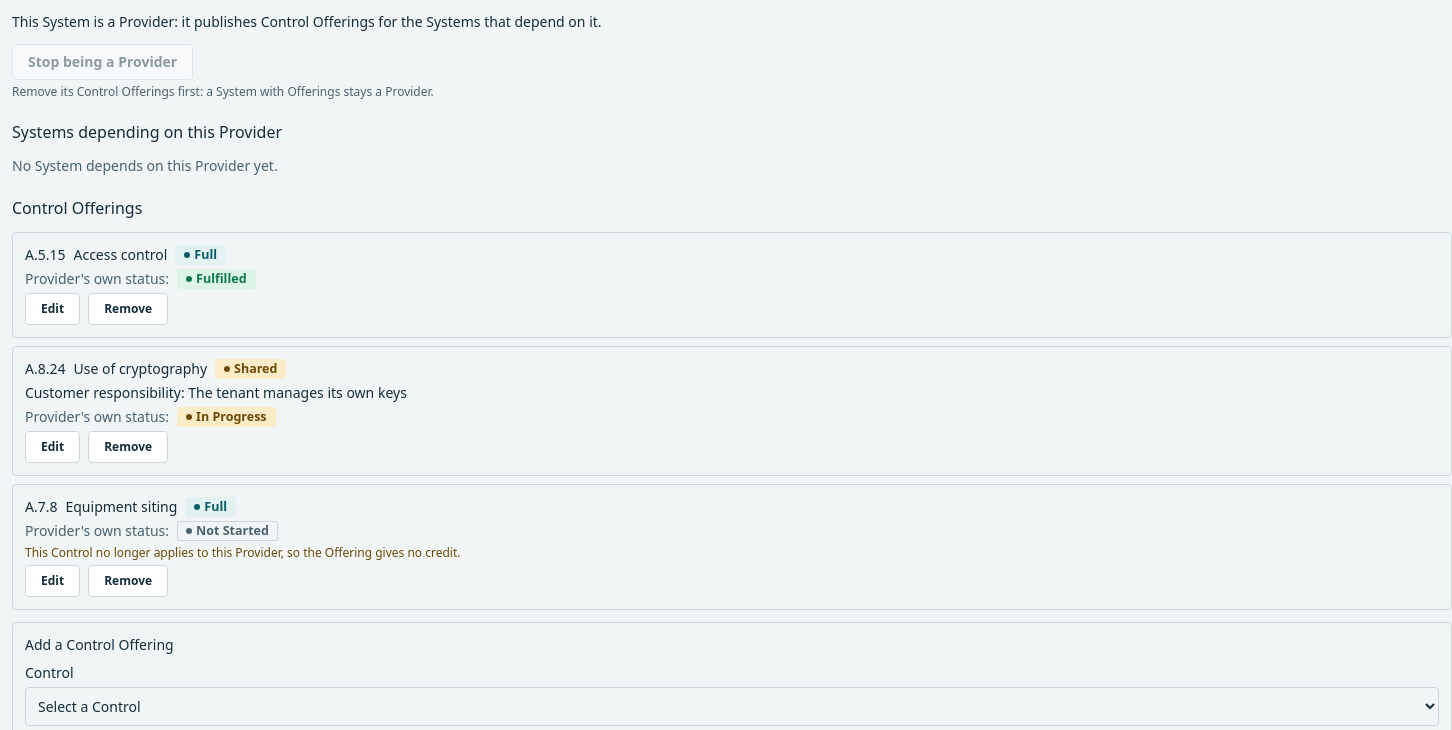
SystemProvider (#123) › editing an Offering › turns Shared into Full without sending the text
Click the button with aria-label "Edit Offering A.8.24". click: (53, 447)
box: [25,431,80,463]
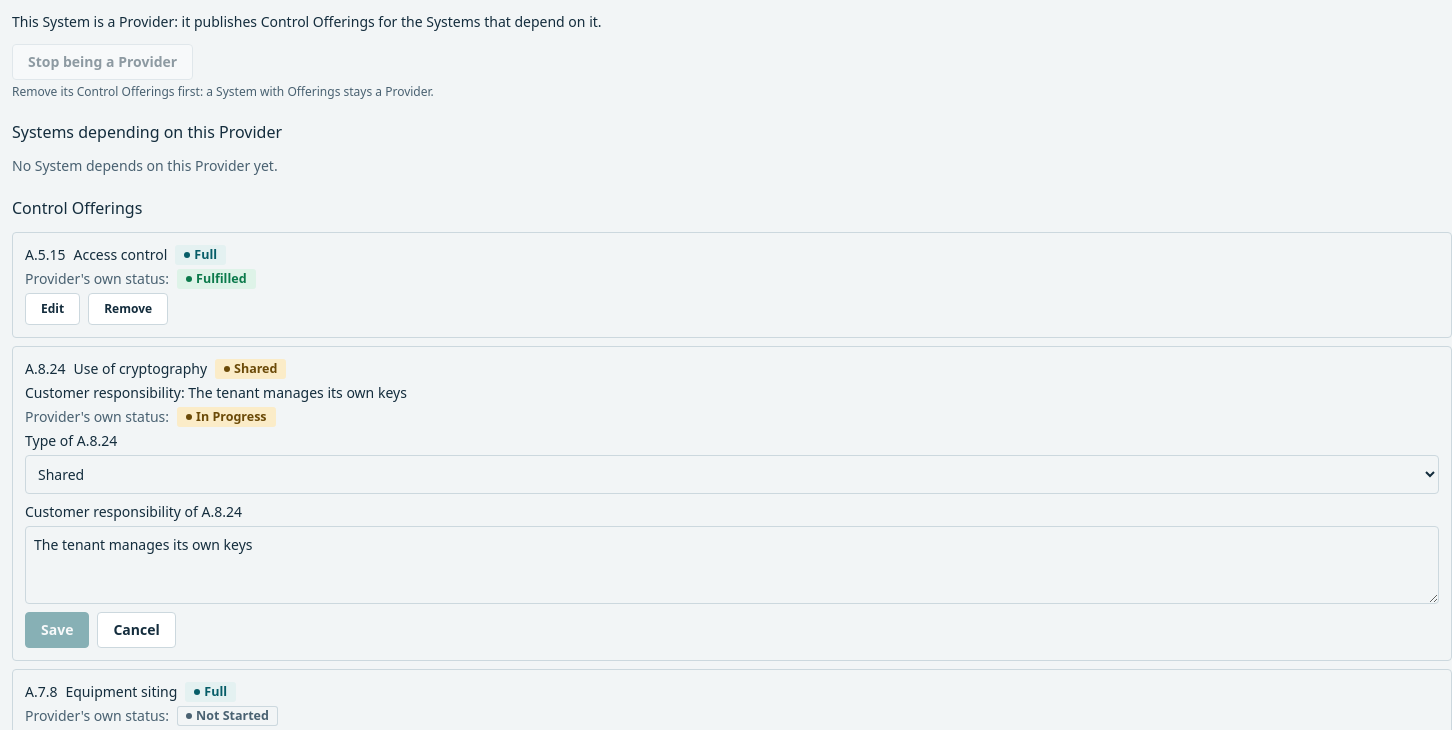
Select "Full" in the dropdown labelled "Type of A.8.24". click: (732, 474)
box: [25,455,1439,494]
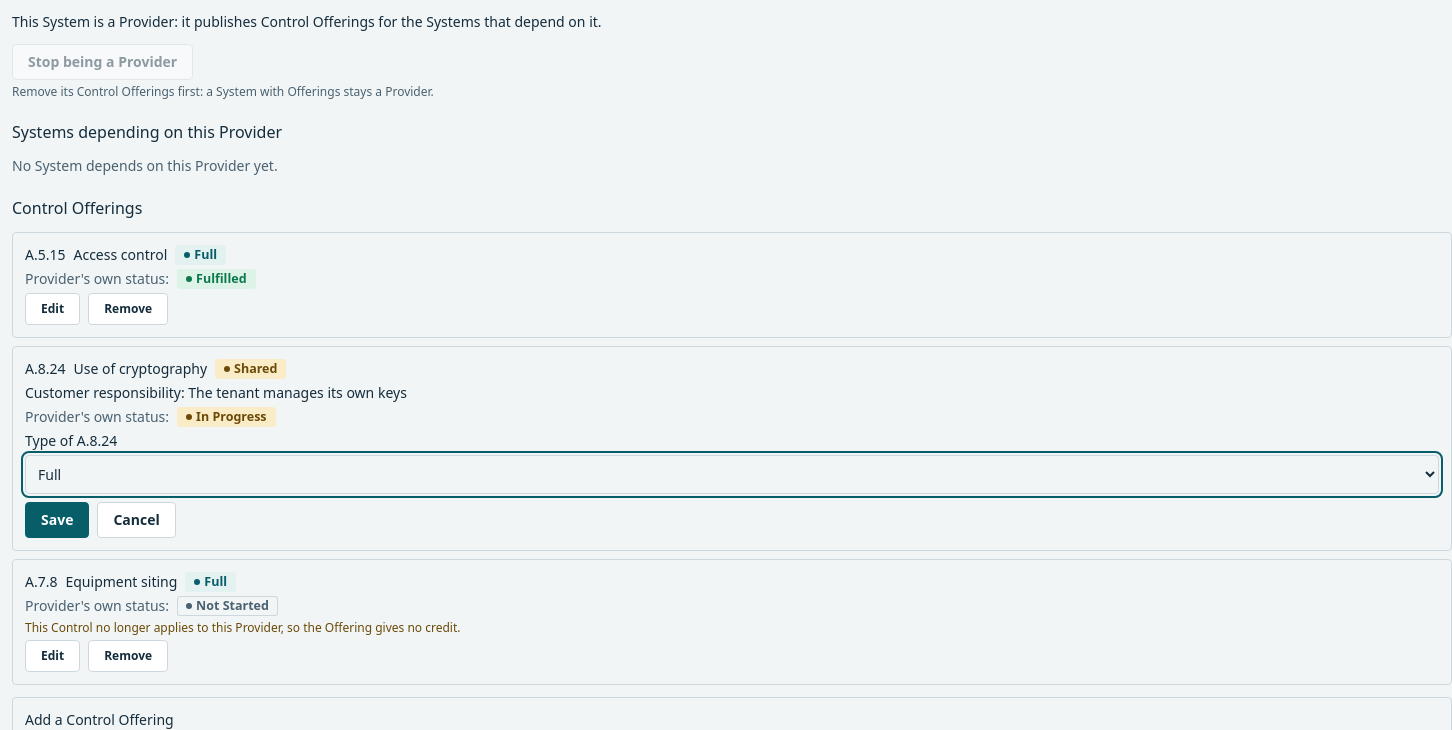
Now the label labelled "Customer responsibility of A.8.24" is gone
Click the button "Save". click: (57, 520)
box: [25,502,89,538]
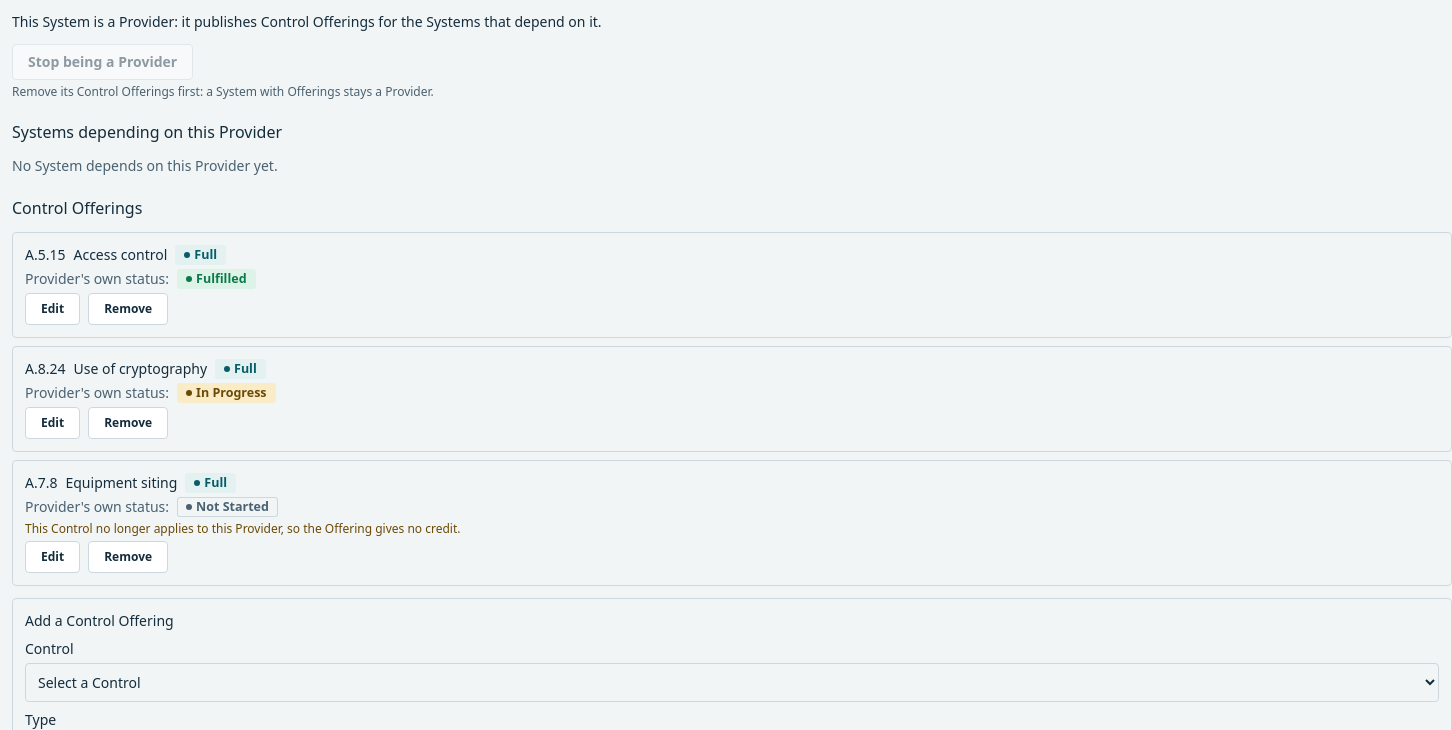
Now the text "Full" is shown, box [215,359,266,379]
Now the text "The tenant manages its own keys" is gone
